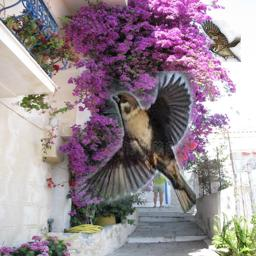Sparrow: (75, 71, 196, 213), (201, 20, 241, 62)
